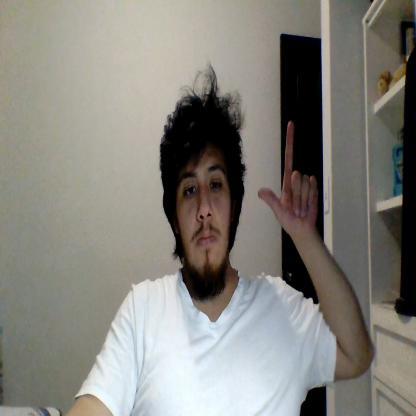L: (258, 122, 318, 230)
